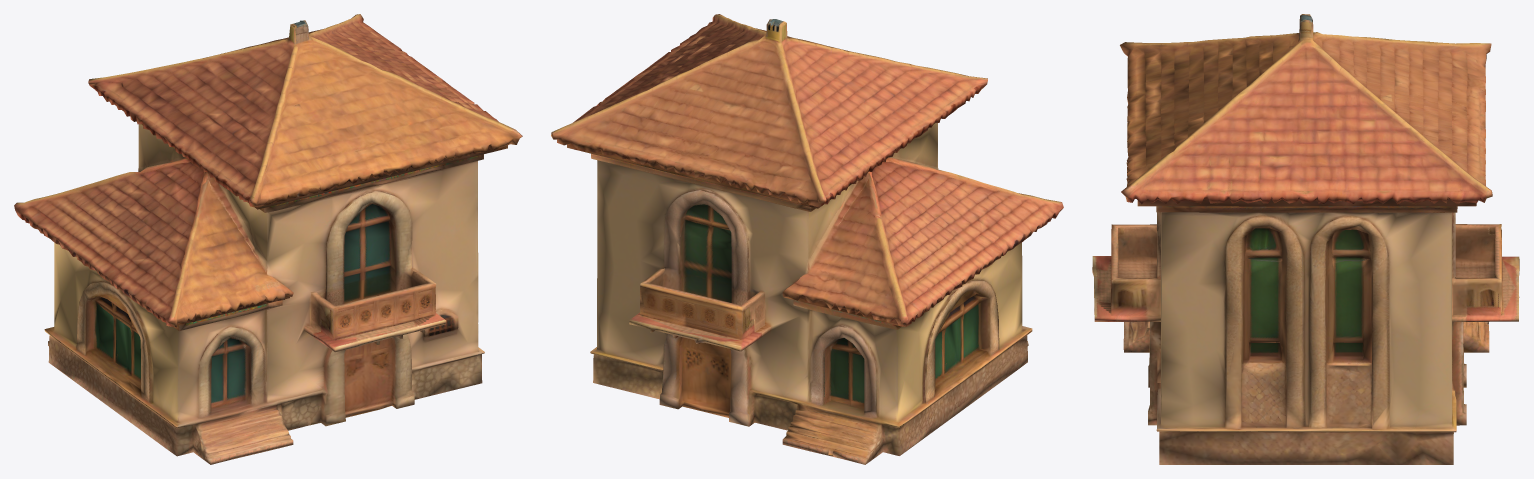
File: Meshy_AI_village_house_low_pol_0425223431_texture.fbx
The picture shows the model from 3 angles, left to right: view 1: azimuth 30°, elevation 25°; view 2: azimuth 150°, elevation 25°; view 3: azimuth 270°, elevation 25°; orthographic projection. The views are drawn at different scales.
Parts seen in each view (by area): view 1: Mesh_0; view 2: Mesh_0; view 3: Mesh_0.
Boxes of the visible parts, x1,y1,x2,y2 form: Mesh_0: (14, 14, 522, 464); Mesh_0: (551, 14, 1063, 464); Mesh_0: (1092, 14, 1519, 464).
Size of the model in its own units: 200 by 185 by 187.
Materials: 1 (1 with a texture image).
